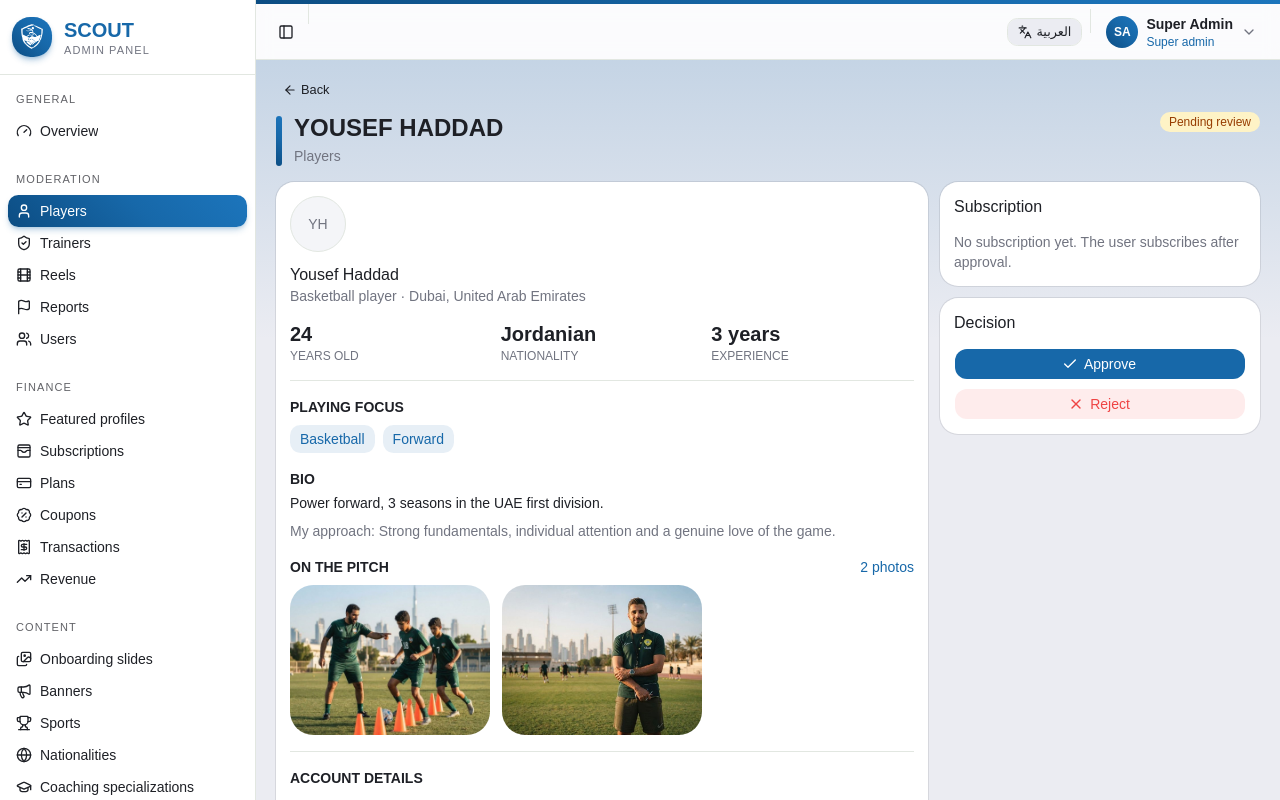
Test: clickable dashboard › records admin actions in the audit log
Click the button "Approve".
click(1100, 364)  # box 954,348 -> 1246,380
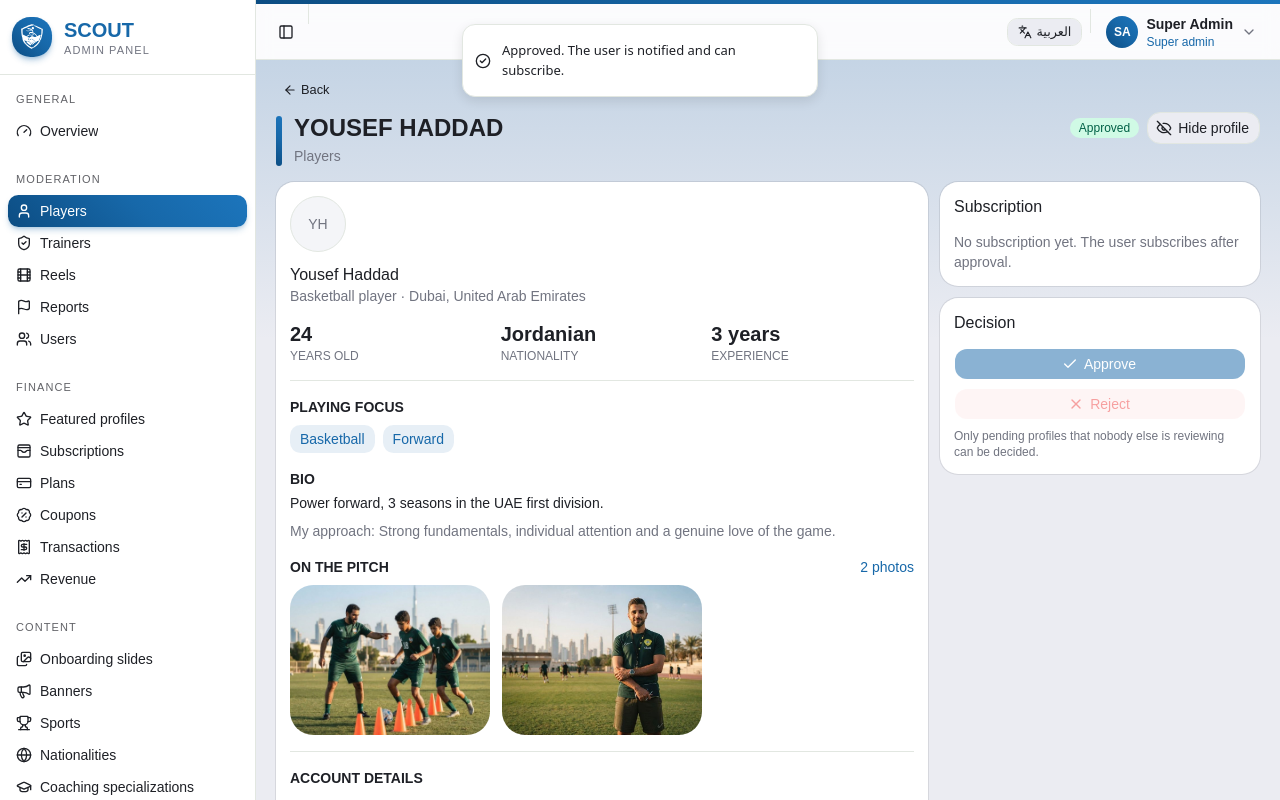
Click the link "Back".
click(306, 90)  # box 283,82 -> 330,97
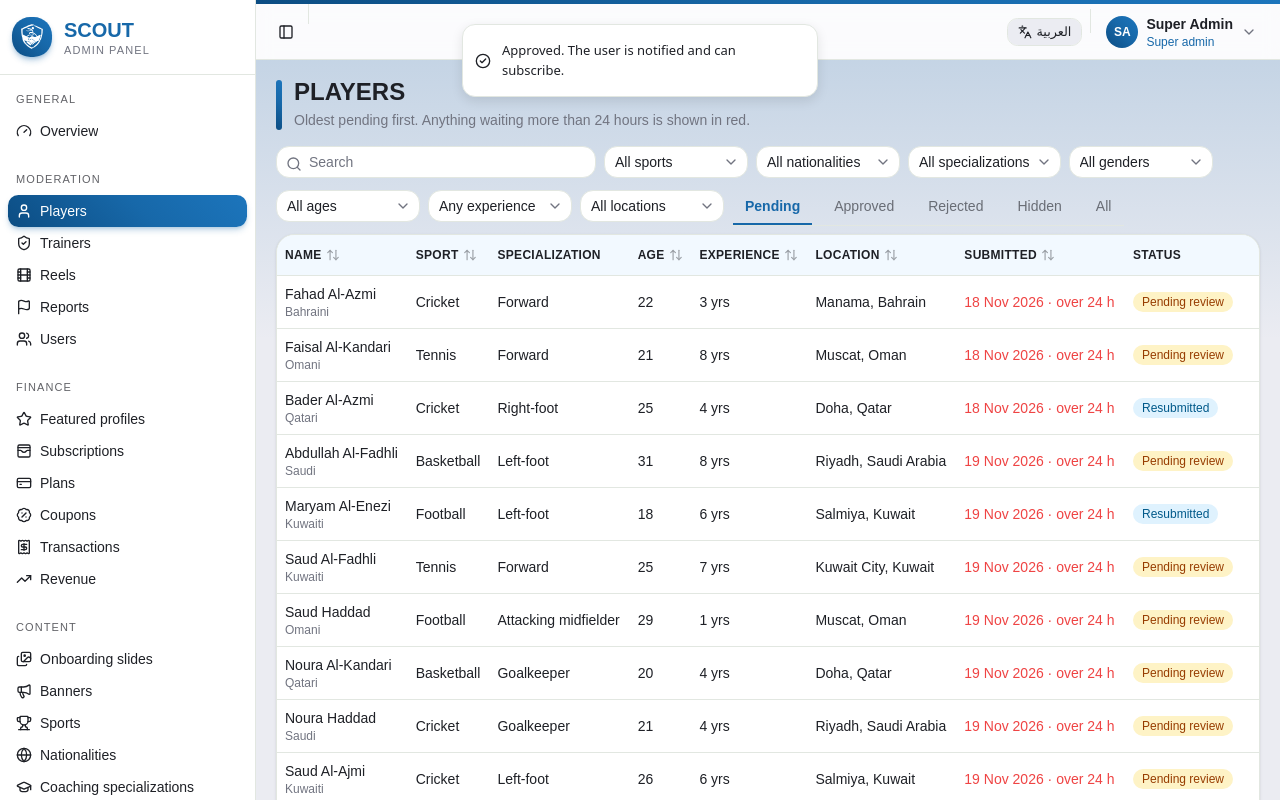
Now the heading "Players" is shown, box 294,78 -> 405,105
